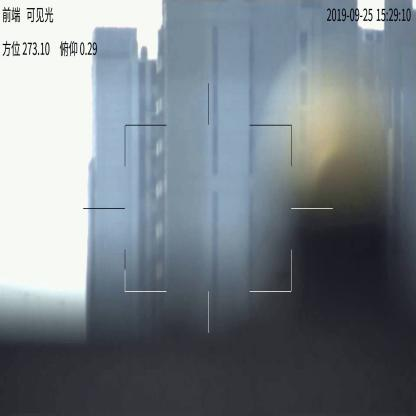uav: (274, 267, 289, 282)
